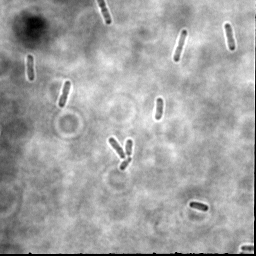Dividing: (172, 29, 189, 63), (57, 79, 73, 108), (107, 136, 127, 159), (96, 1, 113, 26), (224, 22, 236, 51), (26, 54, 36, 82)
Rod: (153, 96, 166, 121), (188, 200, 209, 212), (118, 156, 133, 171), (124, 138, 134, 157)
